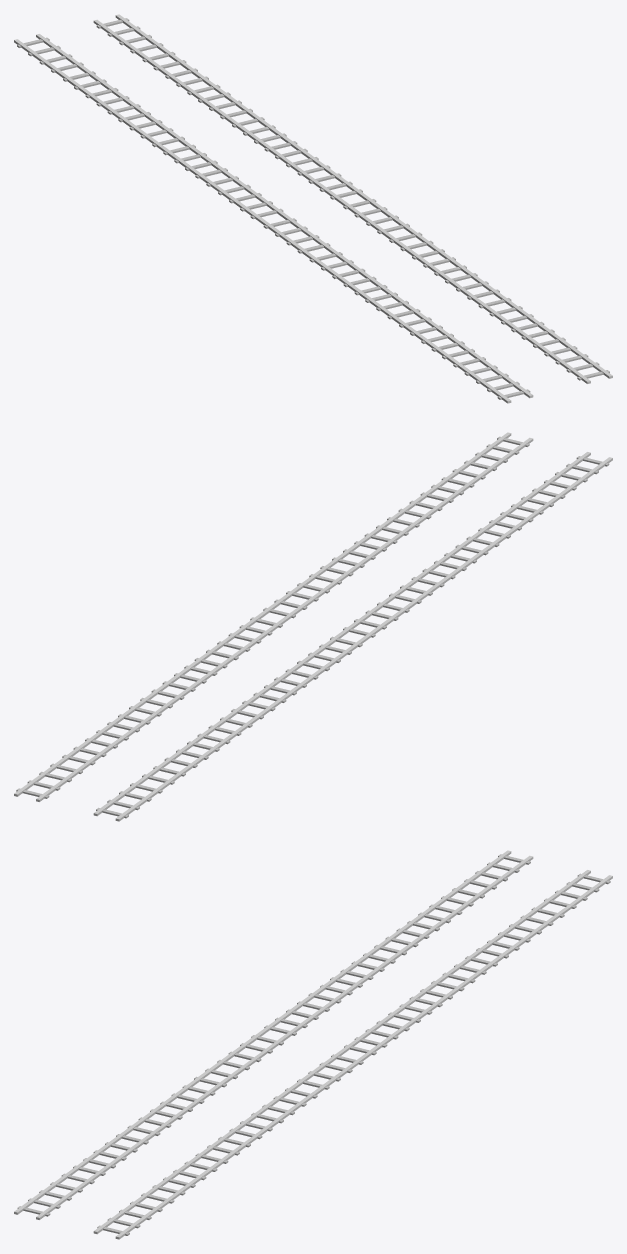
Rendered from Rail_B_001.fbx.
The picture shows the model from 3 angles, top to bottom: view 1: azimuth 30°, elevation 25°; view 2: azimuth 150°, elevation 25°; view 3: azimuth 330°, elevation 25°; orthographic projection.
Parts seen in each view (by area): view 1: Rail_B_001; view 2: Rail_B_001; view 3: Rail_B_001.
Boxes of the visible parts, bbox=[...] form: Rail_B_001: bbox=[14, 14, 612, 403]; Rail_B_001: bbox=[14, 432, 612, 821]; Rail_B_001: bbox=[14, 850, 612, 1239].
Size of the model in its own units: 533 by 10.41 by 4147.
4 materials, 4 textured.
